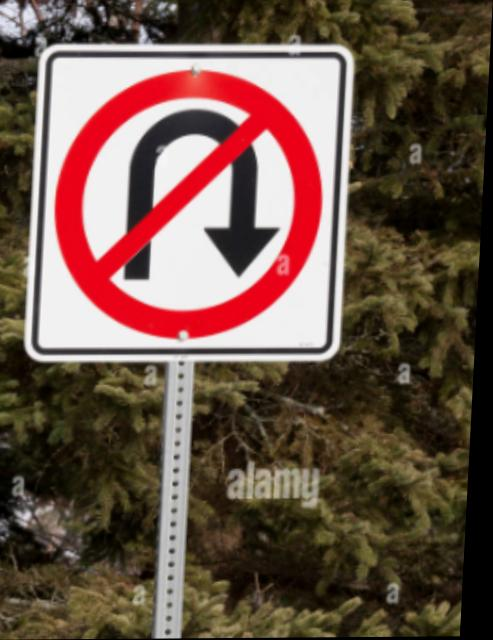not_u_turn_right: (27, 56, 351, 336)
